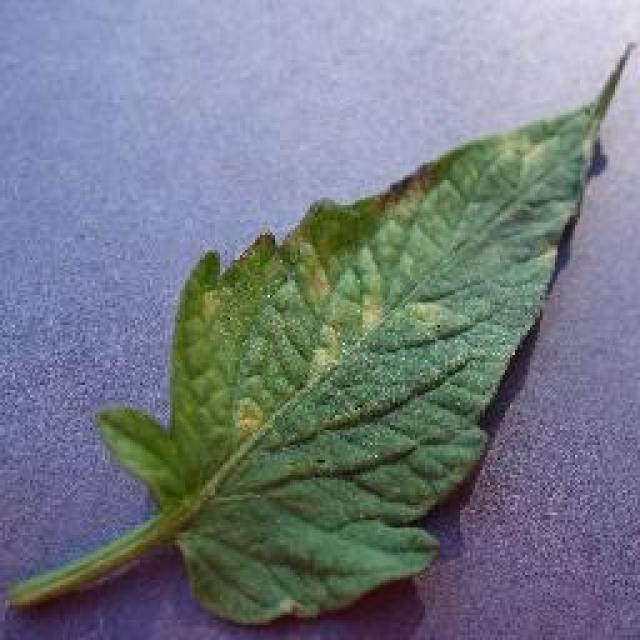Tomato mold leaf: (97, 43, 640, 621)
